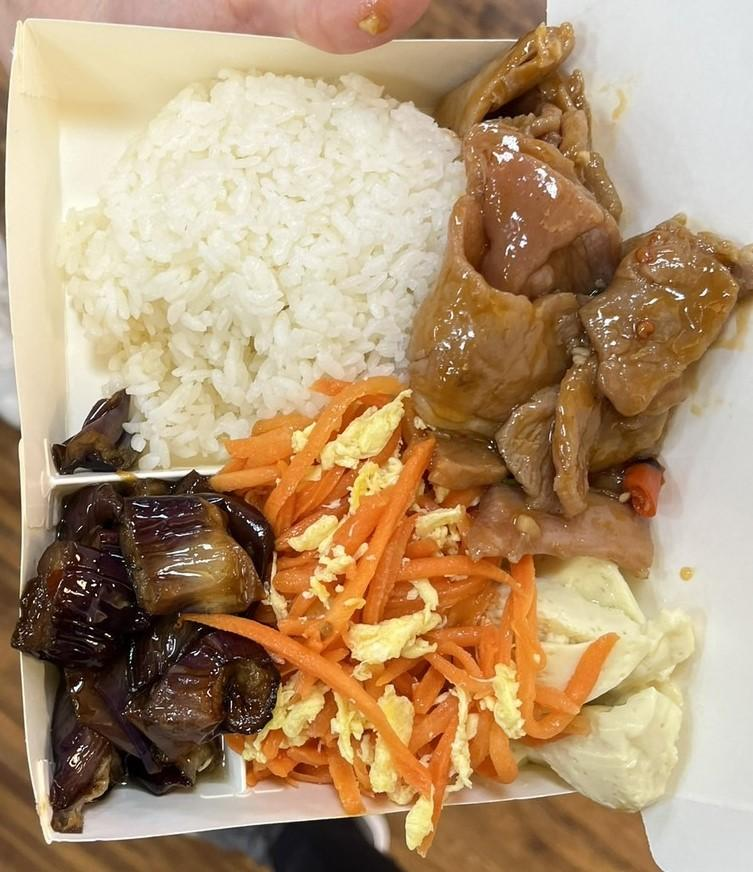big grilled chicken leg: (4, 2, 678, 854)
big herbal chicken leg: (58, 67, 469, 457)
braised fish fillet: (222, 374, 528, 847), (20, 392, 280, 825), (525, 554, 700, 811)
braised pork: (412, 10, 741, 552)
